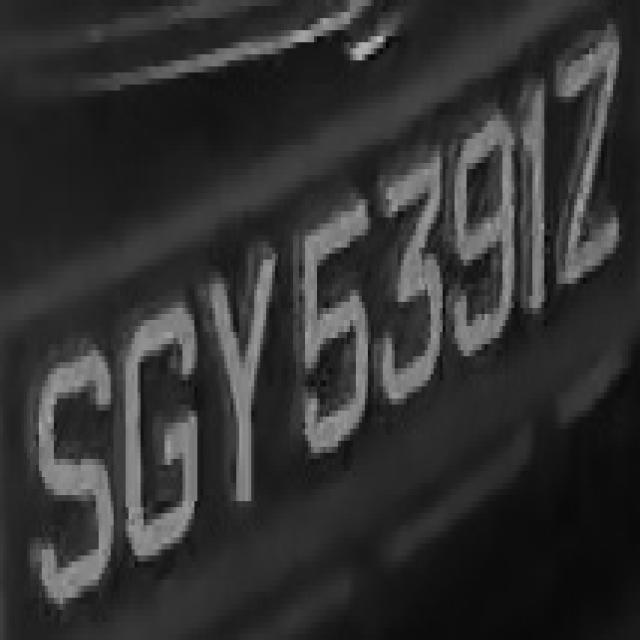1: (508, 66, 554, 326)
3: (370, 126, 446, 428)
5: (290, 175, 374, 465)
9: (431, 109, 514, 368)
G: (117, 277, 209, 574)
S: (24, 344, 117, 640)
Y: (186, 236, 272, 513)
Z: (544, 30, 622, 284)
